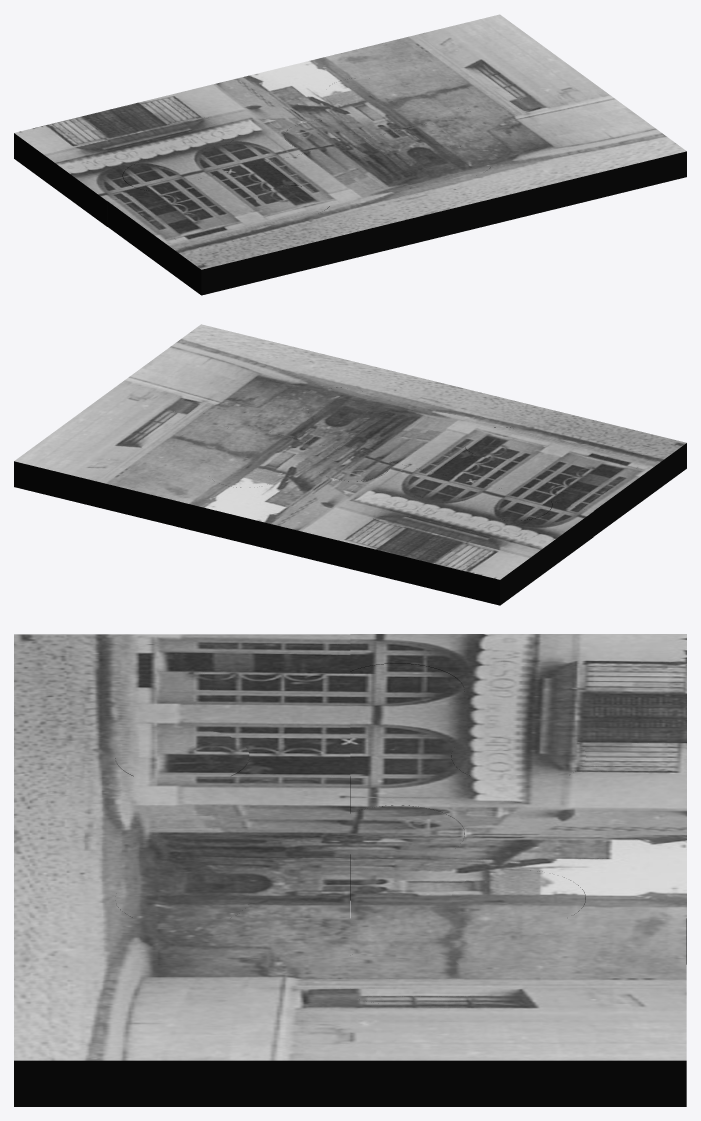
Rendered from Puuzzle PAE_Final(3x2) 1.fbx.
3 views of the same model, one above another, from view 1: azimuth 30°, elevation 25°; view 2: azimuth 150°, elevation 25°; view 3: azimuth 270°, elevation 25° (orthographic). The views are drawn at different scales.
Visible parts, largest first — view 1: Puzle 1_Pieza_6, Puzle 1_Pieza_4, Puzle 1_Pieza_5, Puzle 1_Pieza_3, Puzle 1_Pieza_1, Puzle 1_Pieza_2; view 2: Puzle 1_Pieza_3, Puzle 1_Pieza_6, Puzle 1_Pieza_1, Puzle 1_Pieza_2, Puzle 1_Pieza_4, Puzle 1_Pieza_5; view 3: Puzle 1_Pieza_6, Puzle 1_Pieza_3, Puzle 1_Pieza_5, Puzle 1_Pieza_4, Puzle 1_Pieza_2, Puzle 1_Pieza_1.
Part boxes in pixels (x1,y1,x2,y2): Puzle 1_Pieza_6: [418, 81, 686, 216]; Puzle 1_Pieza_4: [108, 160, 363, 295]; Puzle 1_Pieza_5: [256, 120, 524, 255]; Puzle 1_Pieza_3: [324, 14, 592, 122]; Puzle 1_Pieza_1: [14, 93, 268, 226]; Puzle 1_Pieza_2: [162, 54, 430, 161]; Puzle 1_Pieza_3: [14, 393, 282, 526]; Puzle 1_Pieza_6: [108, 324, 376, 441]; Puzle 1_Pieza_1: [338, 472, 593, 605]; Puzle 1_Pieza_2: [176, 432, 444, 565]; Puzle 1_Pieza_4: [432, 403, 686, 536]; Puzle 1_Pieza_5: [270, 364, 538, 481]; Puzle 1_Pieza_6: [14, 870, 464, 1106]; Puzle 1_Pieza_3: [350, 870, 686, 1106]; Puzle 1_Pieza_5: [14, 728, 464, 918]; Puzle 1_Pieza_4: [14, 634, 464, 776]; Puzle 1_Pieza_2: [350, 728, 686, 964]; Puzle 1_Pieza_1: [350, 634, 686, 813].
Size of the model in its own units: 3948 by 200 by 2633.
Materials: 1 (1 with a texture image).
